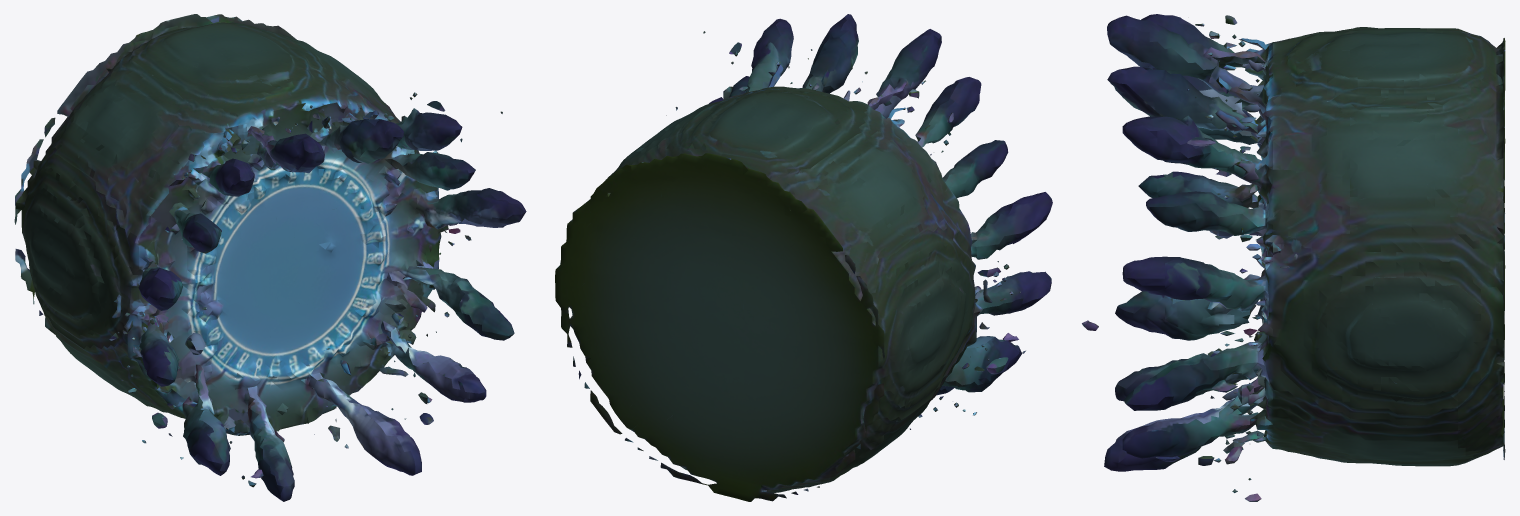
Rendered from WizForest.glb.
3 views of the same model, side by side, from view 1: azimuth 30°, elevation 25°; view 2: azimuth 150°, elevation 25°; view 3: azimuth 270°, elevation 25° (orthographic). The views are drawn at different scales.
Visible parts, largest first — view 1: tmpssxk15y1.ply; view 2: tmpssxk15y1.ply; view 3: tmpssxk15y1.ply.
Part boxes in pixels (x1,y1,x2,y2): tmpssxk15y1.ply: (14,14,526,501); tmpssxk15y1.ply: (555,14,1052,501); tmpssxk15y1.ply: (1082,14,1505,501).
Size of the model in its own units: 1.89 by 1.89 by 1.71.
Materials: 1 (1 with a texture image).
